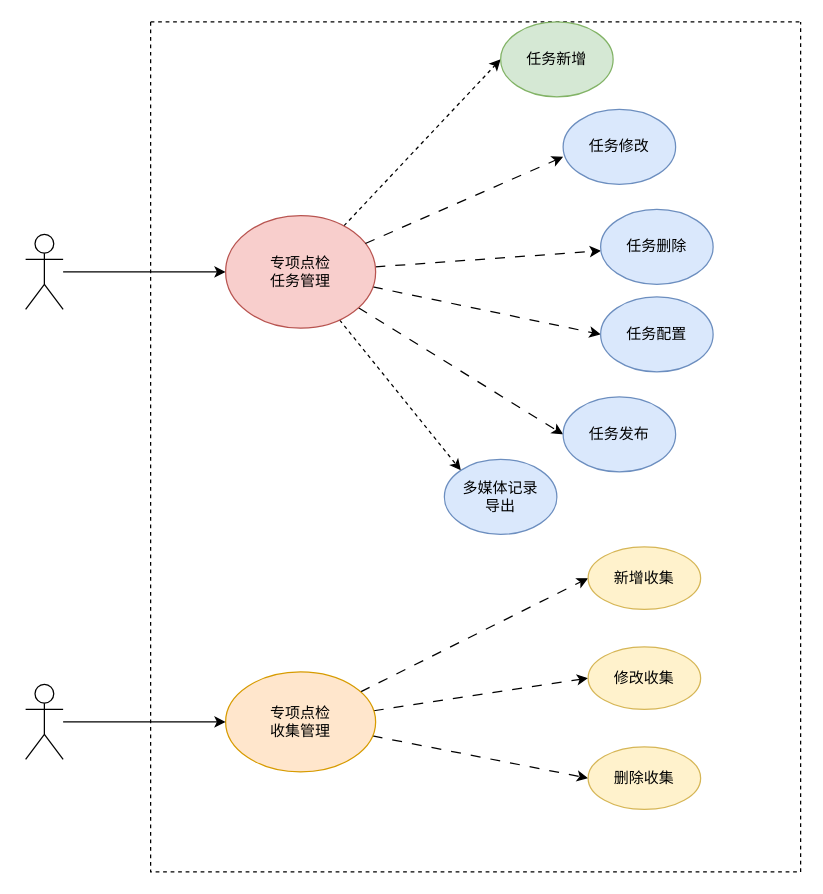
Image size: 823x894. Some labels were removed from this diagram. The shapes that lost their labels are listed below. From the top down, each one's centre as x and y in pixels, then its label:
At [43,271]: "发布者".
At [43,721]: "收集者".
